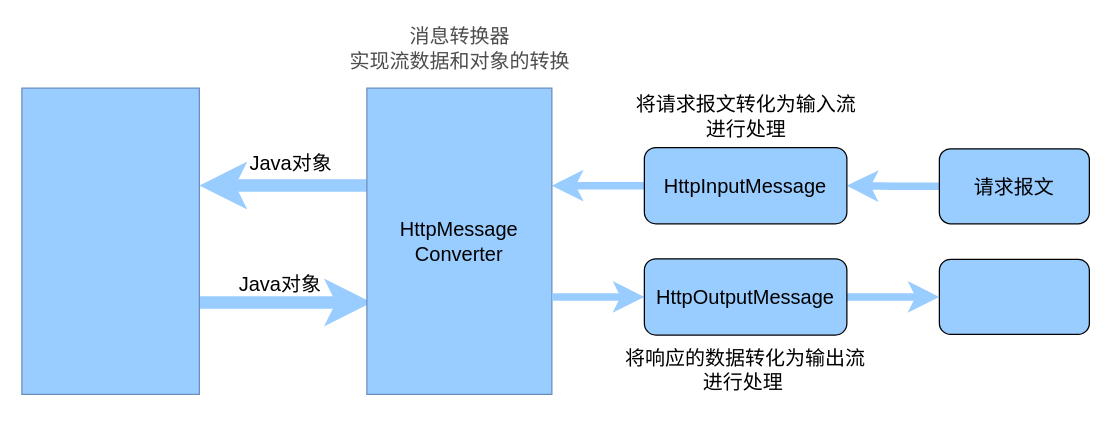
This 1111x423 diagram has some shape labels left out. The shapes that lost their labels are listed below. From the top down, each one's centre as x and y in pixels, then its label:
the point at 110,240: SpringMVC
the point at 1013,296: 响应报文
